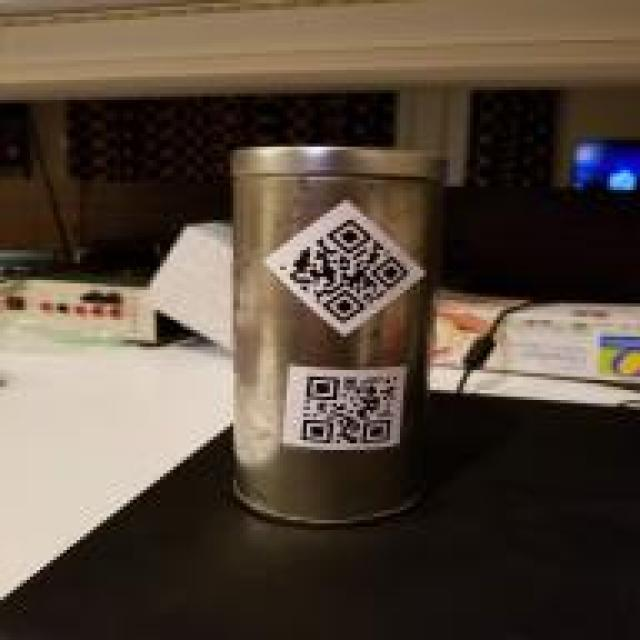qr_code: (279, 219, 409, 325), (301, 375, 398, 444)
